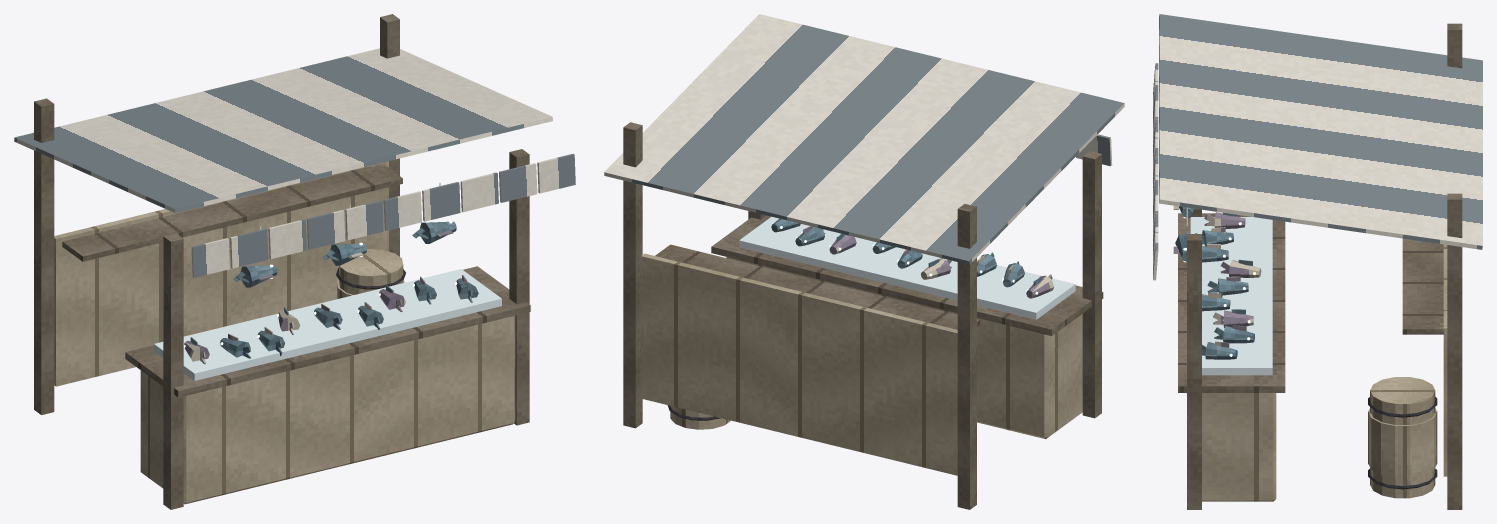
File: market_stall_fish.glb
The picture shows the model from 3 angles, left to right: view 1: azimuth 30°, elevation 25°; view 2: azimuth 150°, elevation 25°; view 3: azimuth 270°, elevation 25°; orthographic projection. The views are drawn at different scales.
Visible parts, largest first — view 1: body; view 2: body; view 3: body.
Boxes of the visible parts, left/top/right/bottom form: body: left=14, top=14, right=575, bottom=509; body: left=604, top=14, right=1124, bottom=509; body: left=1153, top=14, right=1482, bottom=509.
Bounding box in the file's own units: 3.11 × 2.34 × 2.22.
Materials: 10 (6 with a texture image).
